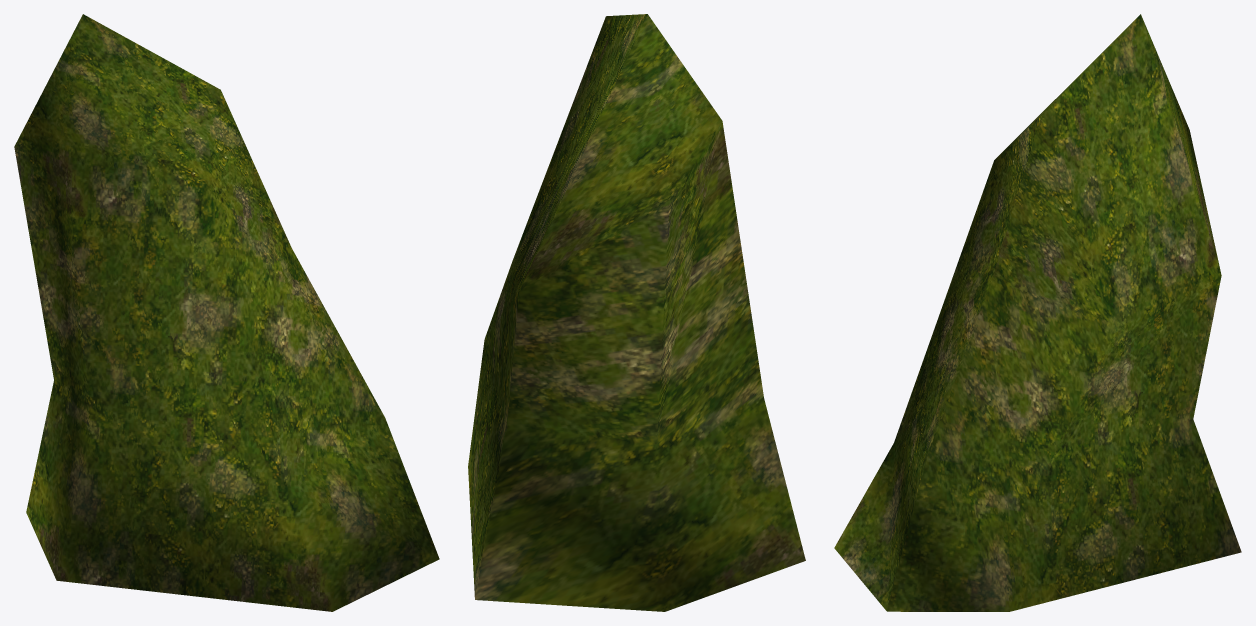
File: INST_OH_ROCK_03.fbx
3 views of the same model, side by side, from view 1: azimuth 30°, elevation 25°; view 2: azimuth 150°, elevation 25°; view 3: azimuth 270°, elevation 25° (orthographic). The views are drawn at different scales.
Parts seen in each view (by area): view 1: INST_OH_ROCK_03; view 2: INST_OH_ROCK_03; view 3: INST_OH_ROCK_03.
Part boxes in pixels (box(x1,y1,x2,y2)): INST_OH_ROCK_03: box(14, 14, 439, 611); INST_OH_ROCK_03: box(468, 14, 805, 611); INST_OH_ROCK_03: box(834, 14, 1241, 611).
Bounding box in the file's own units: 11702 × 18229 × 13726.
1 material, 1 textured.
